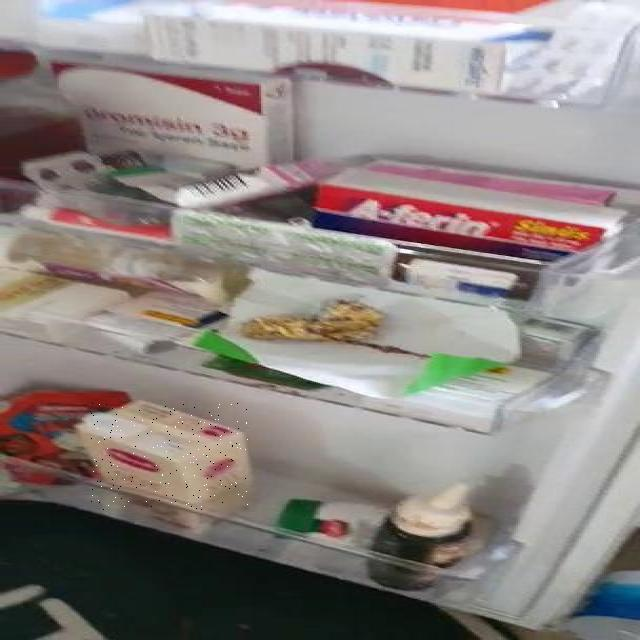milk: (91, 403, 248, 510)
